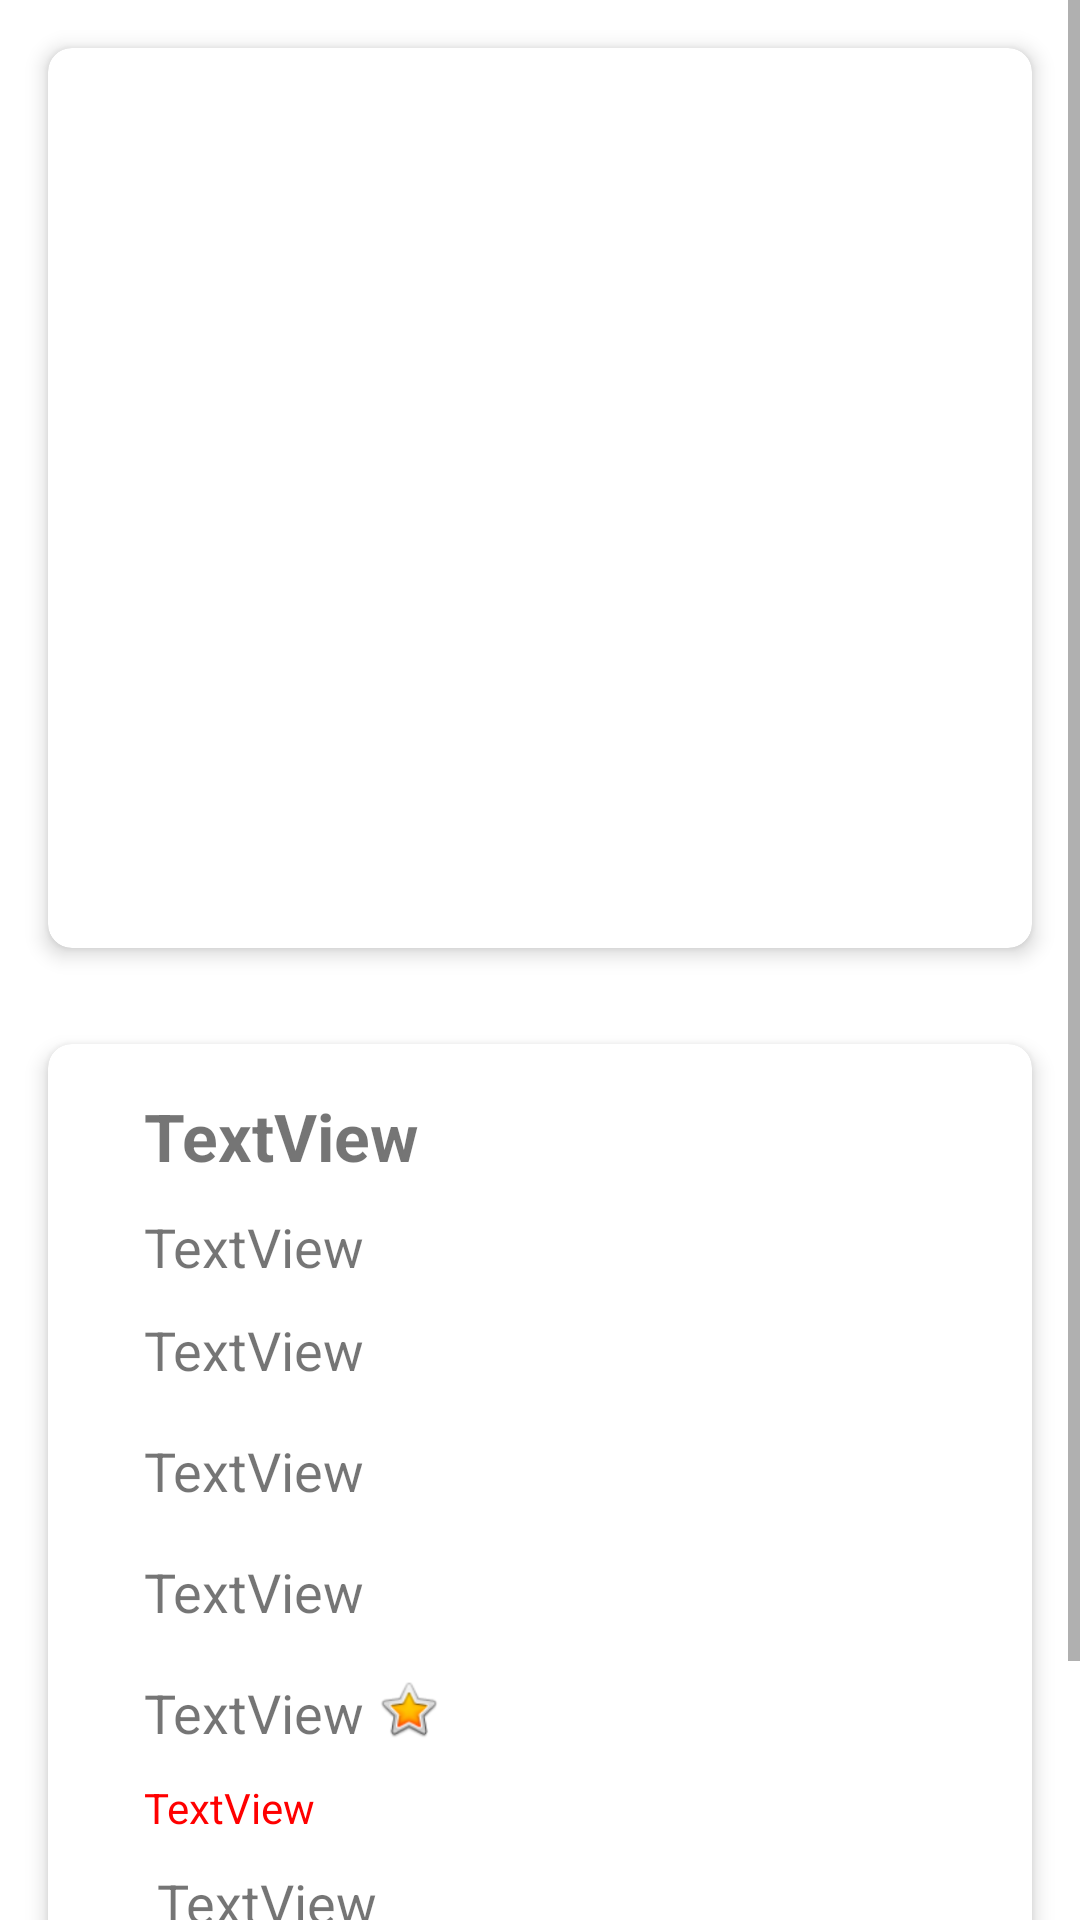

Icon bounding boxes for this 1080w x 1920h phone screenshot, format (x1, y1, x2, y2):
star on: (381, 1683, 437, 1736)
